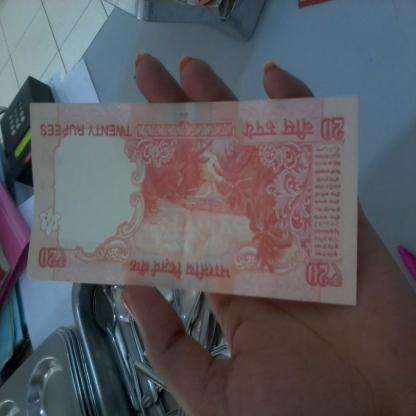Old20Back: (26, 94, 360, 305)
